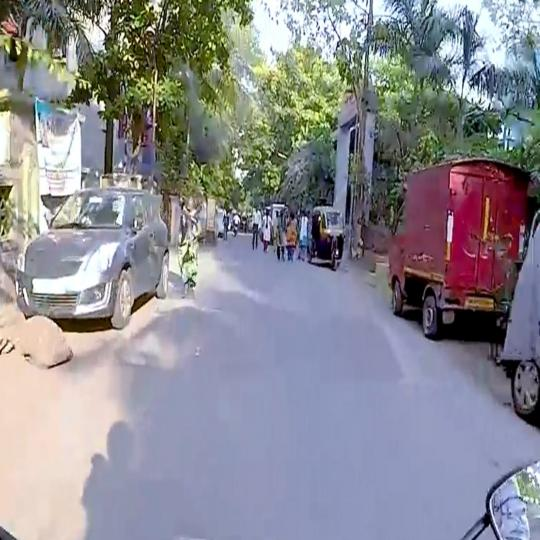Speed Bump: (135, 304, 421, 388)
